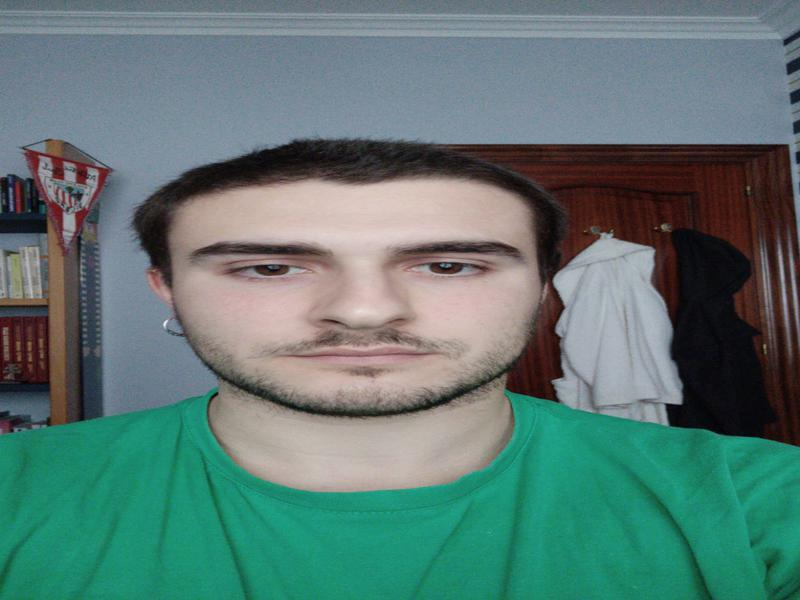NWink: (185, 233, 526, 302)
